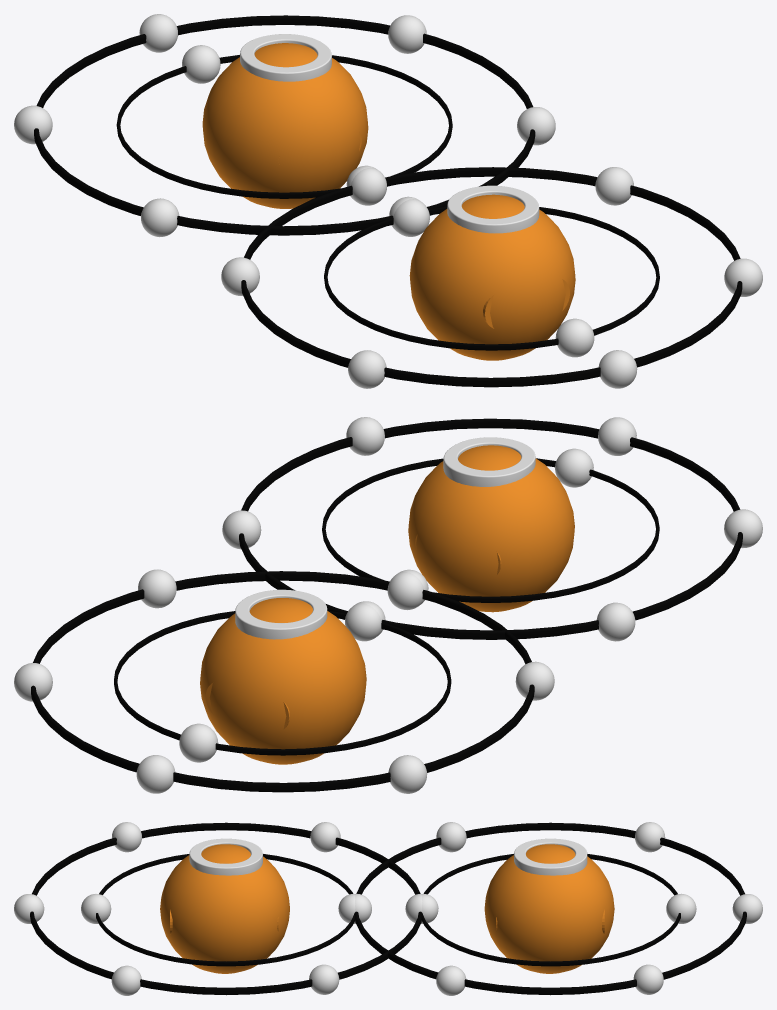
The model's file is Oksigen.glb.
3 renders of one model, top to bottom at view 1: azimuth 30°, elevation 25°; view 2: azimuth 150°, elevation 25°; view 3: azimuth 270°, elevation 25°, orthographic. The views are drawn at different scales.
Visible parts, largest first — view 1: Sphere, Sphere.009, BézierCircle.003, BézierCircle.001, BézierCircle.002, BézierCircle, Text.001, Text, Sphere.010, Sphere.017, Sphere.007, Sphere.016 (+10 smaller); view 2: Sphere.009, Sphere, BézierCircle.001, BézierCircle.003, BézierCircle, BézierCircle.002, Text.001, Text, Sphere.002, Sphere.004, Sphere.003, Sphere.012 (+10 smaller); view 3: Sphere, Sphere.009, BézierCircle.001, BézierCircle.003, BézierCircle, BézierCircle.002, Text.001, Text, Sphere.015, Sphere.006, Sphere.014, Sphere.005 (+12 smaller).
Part boxes in pixels (<box>): Sphere: <box>202,43,368,208</box>; Sphere.009: <box>409,194,575,360</box>; BézierCircle.003: <box>241,167,742,387</box>; BézierCircle.001: <box>34,15,535,235</box>; BézierCircle.002: <box>324,206,659,350</box>; BézierCircle: <box>116,55,452,198</box>; Text.001: <box>447,185,539,233</box>; Text: <box>240,34,331,81</box>; Sphere.010: <box>555,318,594,357</box>; Sphere.017: <box>598,350,637,388</box>; Sphere.007: <box>141,198,179,237</box>; Sphere.016: <box>348,350,386,388</box>; Sphere.009: <box>408,445,574,612</box>; Sphere: <box>200,598,366,764</box>; BézierCircle.001: <box>31,571,534,792</box>; BézierCircle.003: <box>239,418,742,639</box>; BézierCircle: <box>114,610,451,755</box>; BézierCircle.002: <box>322,458,659,602</box>; Text.001: <box>443,437,535,486</box>; Text: <box>235,589,327,639</box>; Sphere.002: <box>179,723,218,762</box>; Sphere.004: <box>136,755,175,793</box>; Sphere.003: <box>388,755,427,793</box>; Sphere.012: <box>596,602,635,641</box>; Sphere: <box>484,844,614,973</box>; Sphere.009: <box>160,844,289,973</box>; BézierCircle.001: <box>354,822,746,995</box>; BézierCircle.003: <box>30,822,422,995</box>; BézierCircle: <box>421,854,680,966</box>; BézierCircle.002: <box>96,854,355,966</box>; Text.001: <box>189,838,262,875</box>; Text: <box>514,838,587,875</box>; Sphere.015: <box>111,965,141,995</box>; Sphere.006: <box>436,965,466,995</box>; Sphere.014: <box>309,964,339,994</box>; Sphere.005: <box>633,964,663,994</box>.
Size of the model in its own units: 18.18 by 6 by 34.54.
